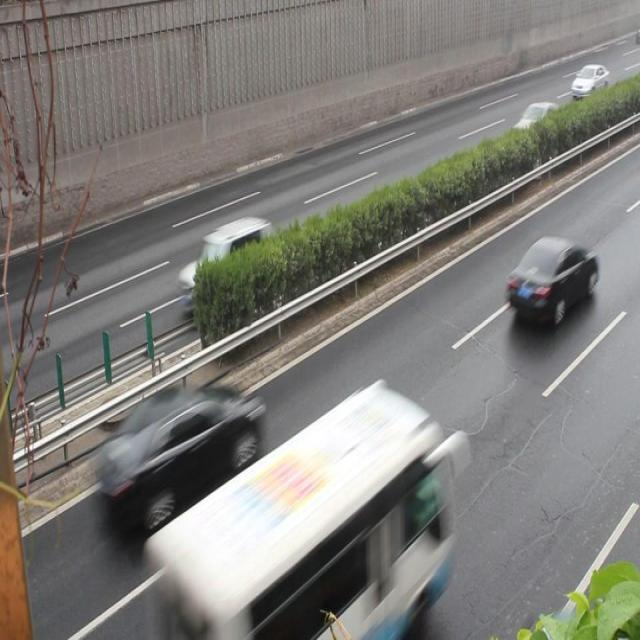car: (96, 388, 260, 528), (176, 218, 275, 311), (505, 234, 596, 324), (507, 102, 563, 154), (568, 64, 609, 104)
van: (141, 379, 450, 640)
